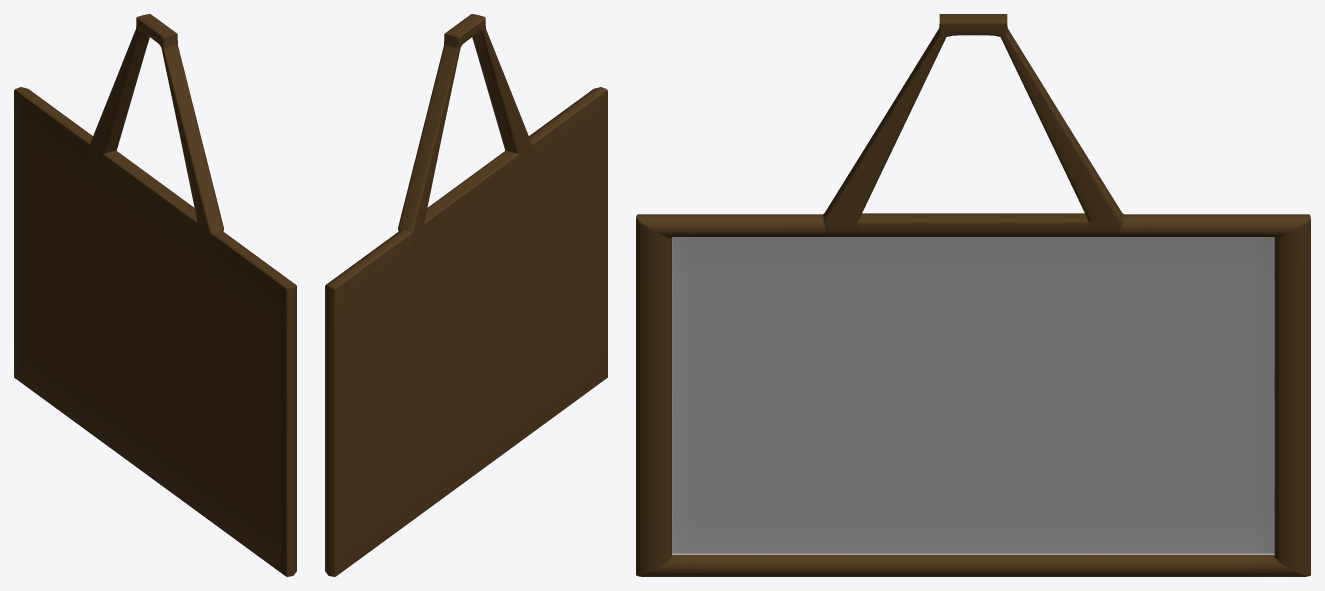
The model's file is Painting.fbx.
The picture shows the model from 3 angles, left to right: view 1: azimuth 30°, elevation 25°; view 2: azimuth 150°, elevation 25°; view 3: azimuth 270°, elevation 25°; orthographic projection. The views are drawn at different scales.
Visible parts, largest first — view 1: pCube1; view 2: pCube1; view 3: pCube1.
Boxes of the visible parts, bbox=[...] form: pCube1: bbox=[14, 14, 296, 576]; pCube1: bbox=[325, 14, 607, 576]; pCube1: bbox=[636, 14, 1310, 576].
Bounding box in the file's own units: 0.0518 × 1.56 × 1.7.
